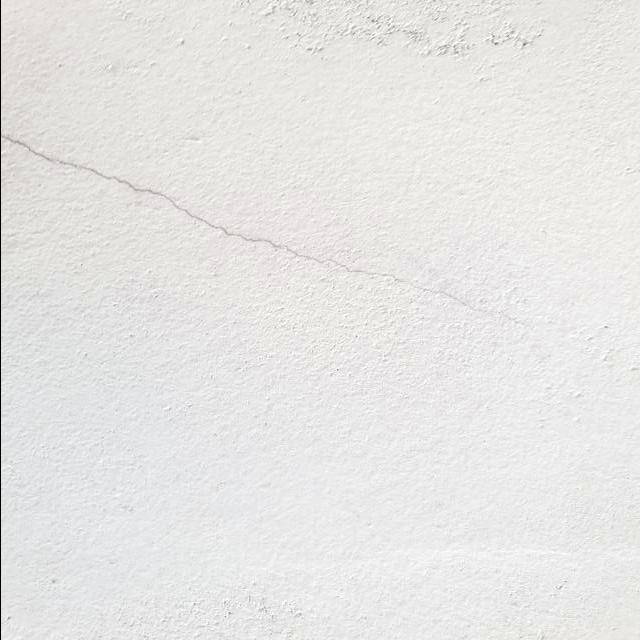SurfaceCrack: (0, 99, 638, 328)
